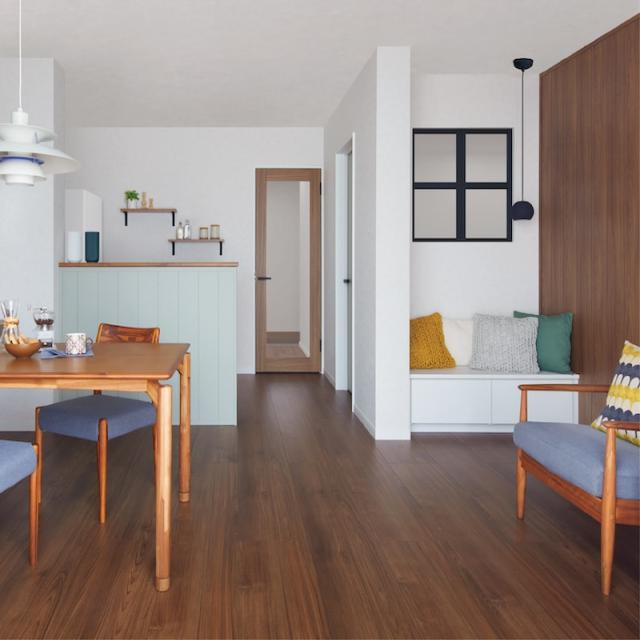vintage chair: (507, 341, 640, 597)
vintage desk: (1, 337, 196, 601)
